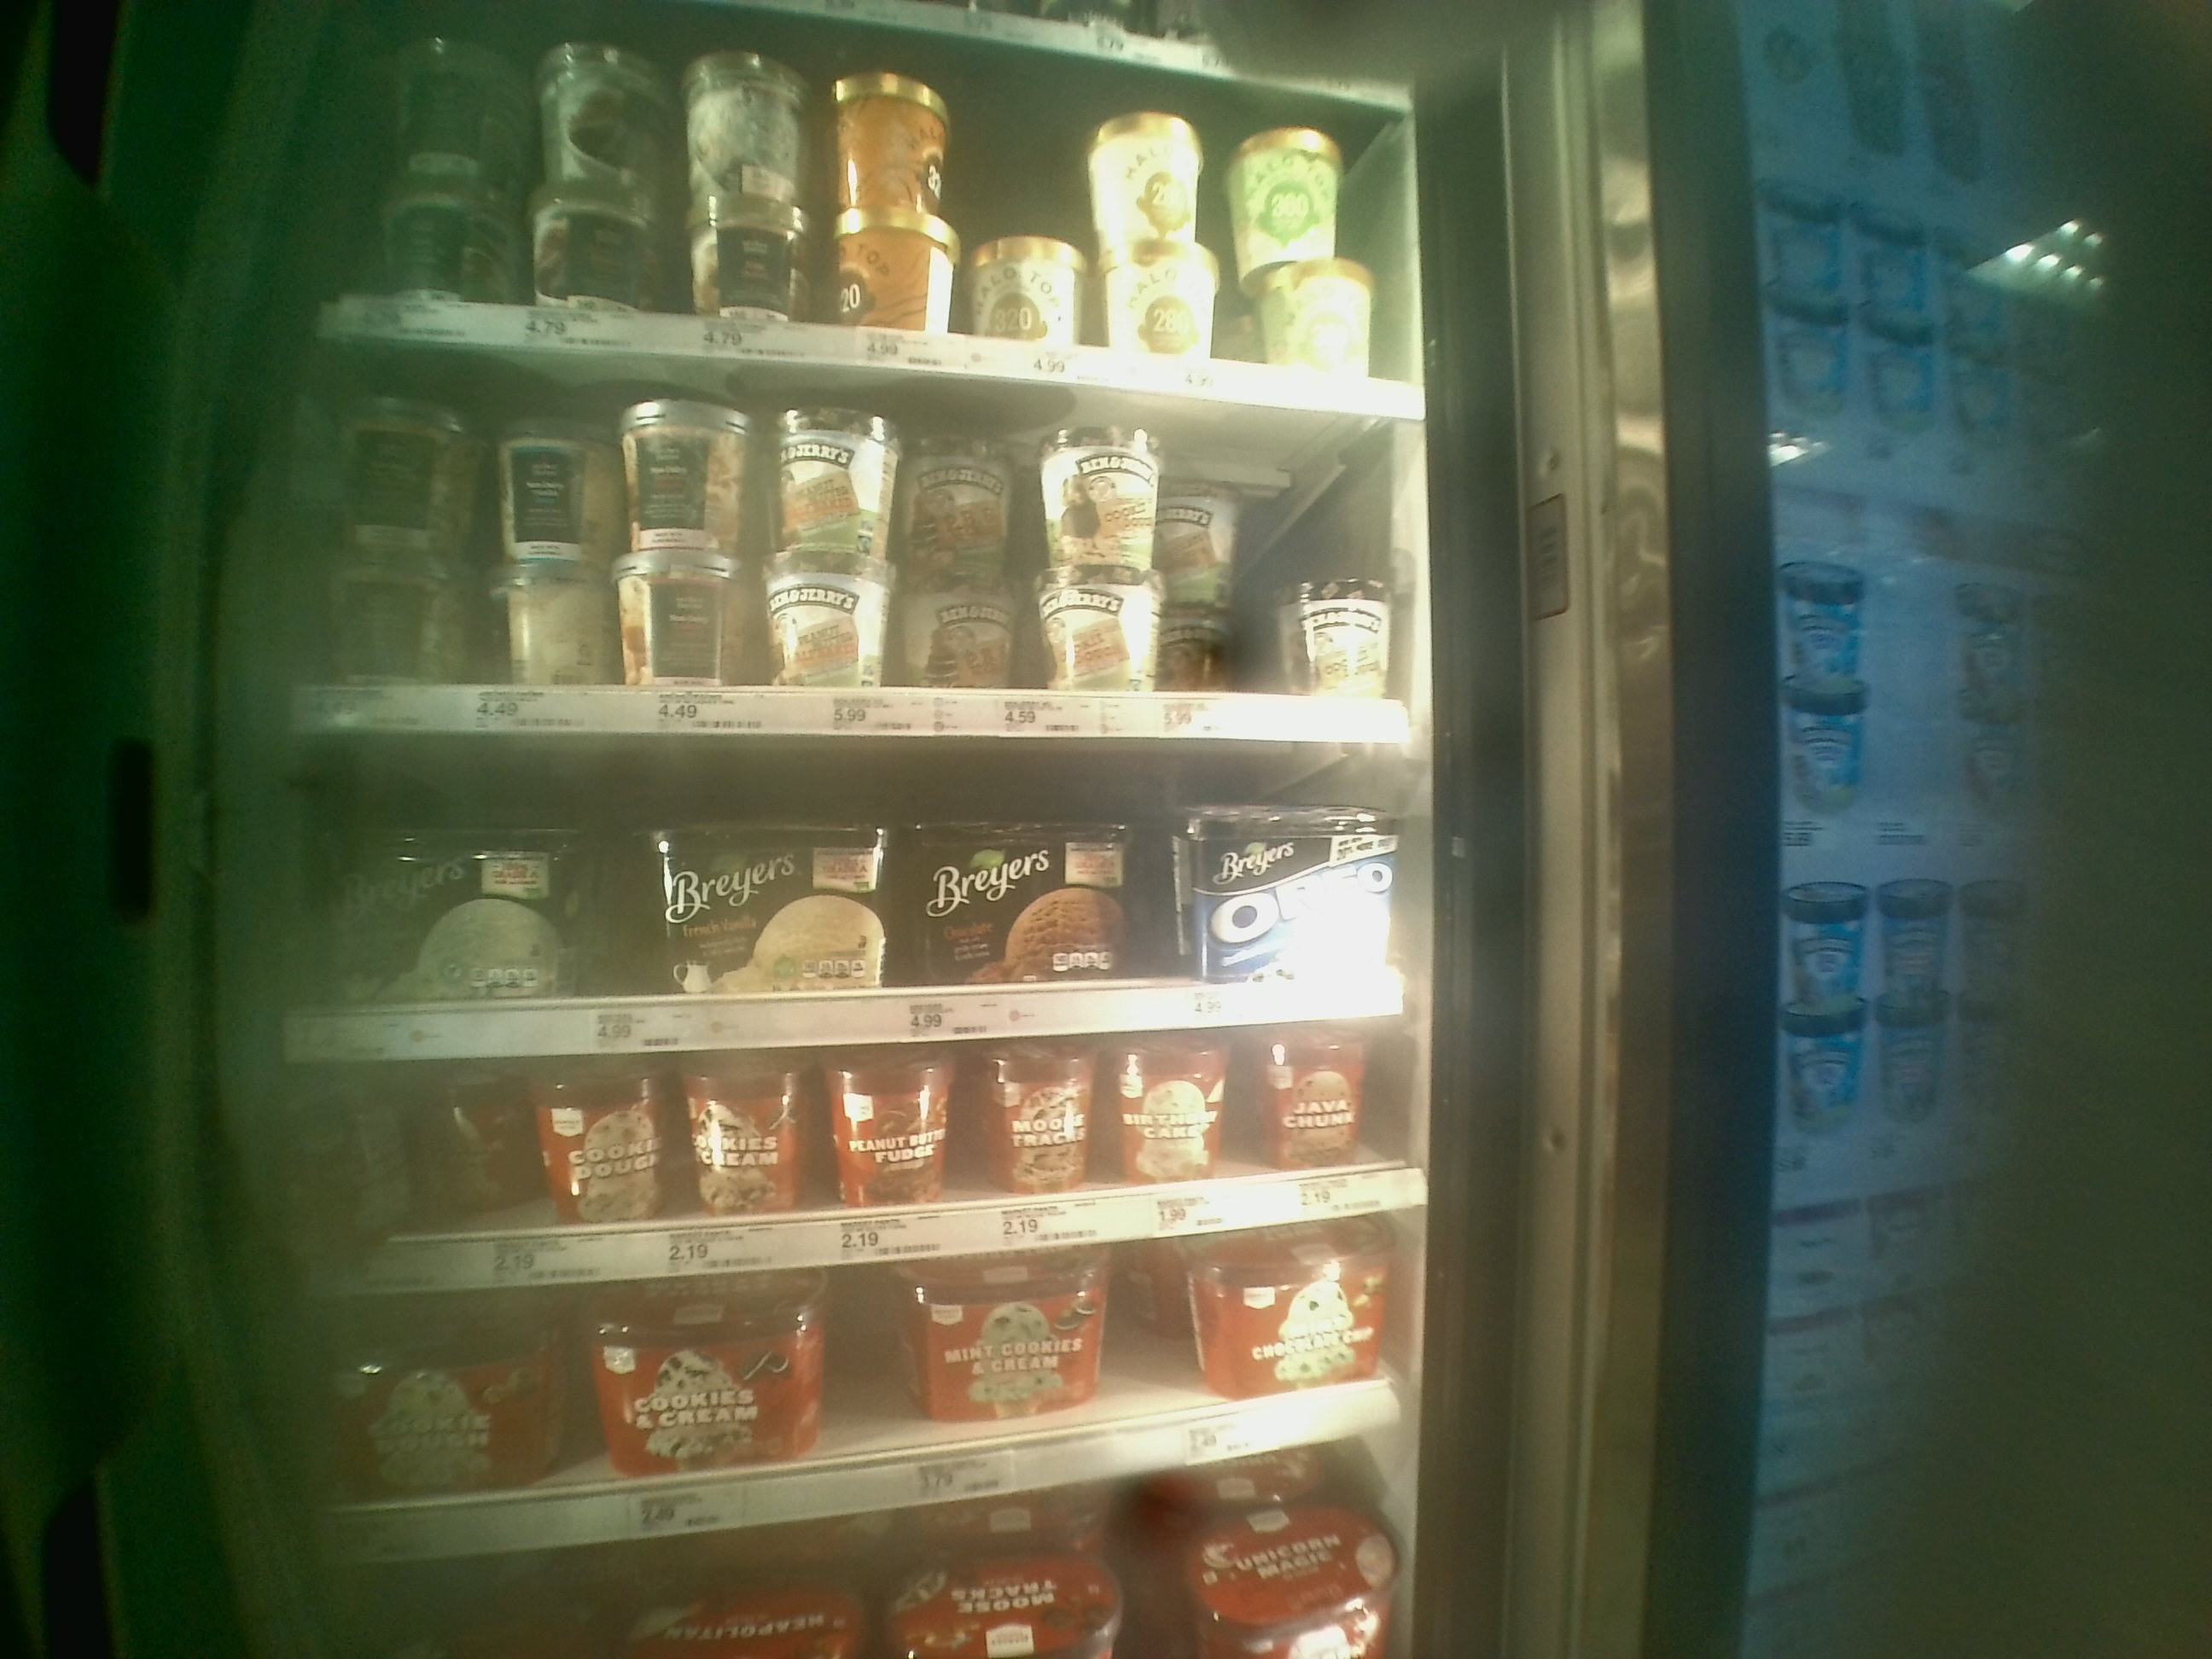shelf: (298, 354, 1409, 744), (289, 727, 1428, 1037), (298, 1046, 1418, 1279)
